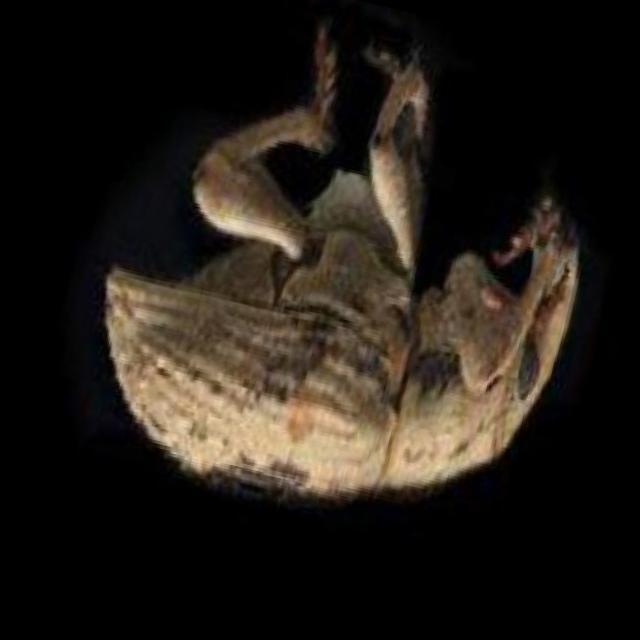rice-bug: (66, 0, 625, 551)
